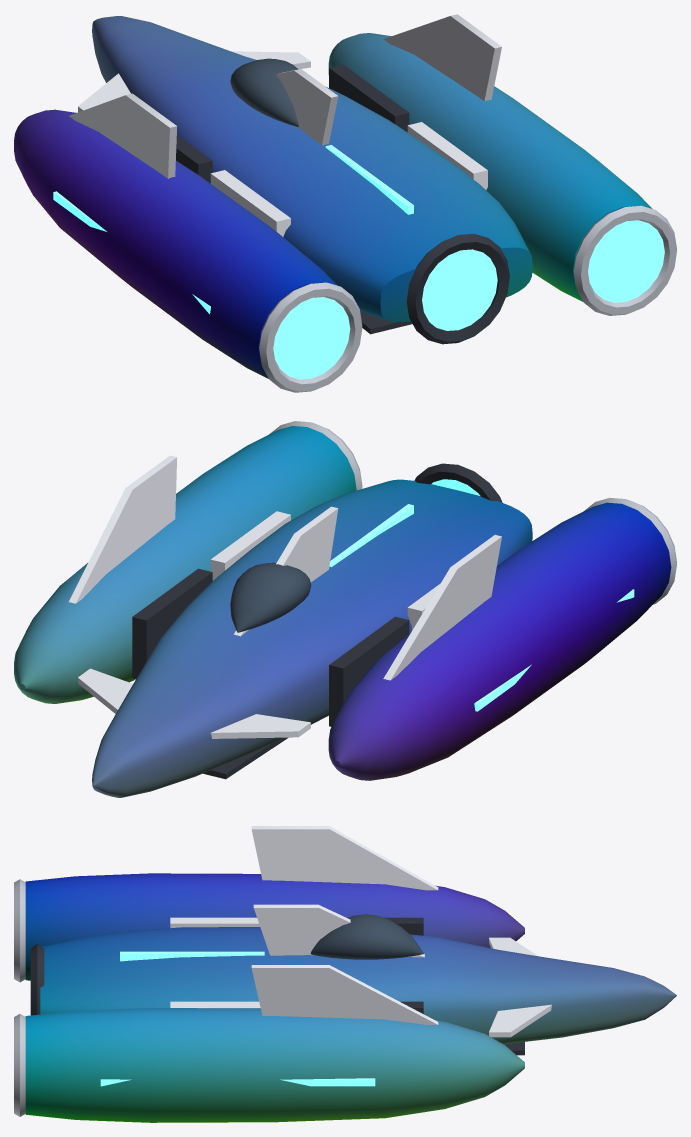
The model's file is titan.glb.
The picture shows the model from 3 angles, top to bottom: view 1: azimuth 30°, elevation 25°; view 2: azimuth 150°, elevation 25°; view 3: azimuth 270°, elevation 25°; orthographic projection. The views are drawn at different scales.
Visible parts, largest first — view 1: titan_LOD0; view 2: titan_LOD0; view 3: titan_LOD0.
Part boxes in pixels (x1=…): titan_LOD0: x1=14, y1=14, x2=676, y2=392; titan_LOD0: x1=14, y1=421, x2=676, y2=797; titan_LOD0: x1=14, y1=826, x2=676, y2=1122.
Size of what is drawn, in the model's own units: 3 by 1.17 by 4.58.
